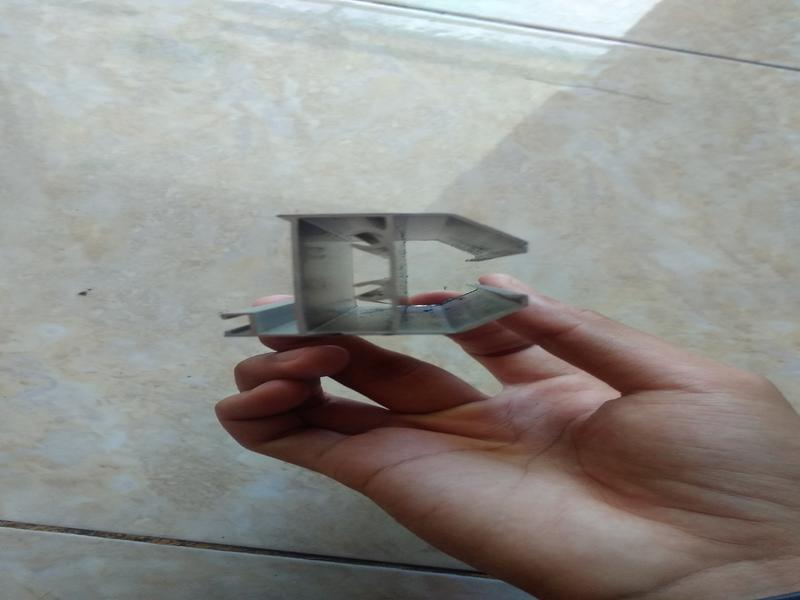Aluminium_3: (203, 181, 551, 347)
